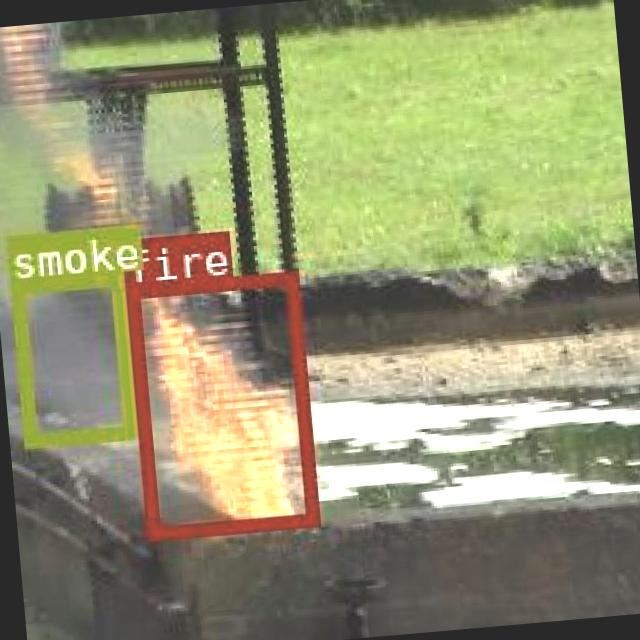fire: (125, 270, 318, 537)
smoke: (8, 270, 132, 445)
